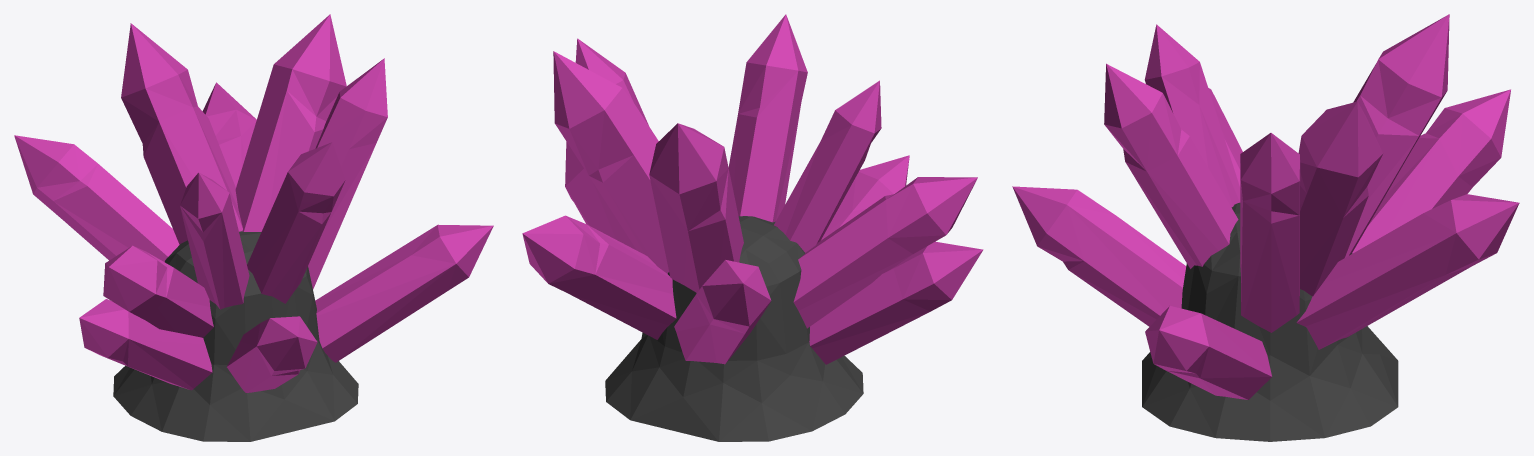
Rendered from nat_crystal_mineral_1.glb.
The picture shows the model from 3 angles, left to right: view 1: azimuth 30°, elevation 25°; view 2: azimuth 150°, elevation 25°; view 3: azimuth 270°, elevation 25°; orthographic projection. The views are drawn at different scales.
Parts seen in each view (by area): view 1: nat_crystal_mineral_1; view 2: nat_crystal_mineral_1; view 3: nat_crystal_mineral_1.
Part boxes in pixels (x1,y1,x2,y2): nat_crystal_mineral_1: [14, 14, 493, 441]; nat_crystal_mineral_1: [522, 14, 983, 441]; nat_crystal_mineral_1: [1012, 14, 1519, 441].
Bounding box in the file's own units: 1.35 × 1 × 1.29.
